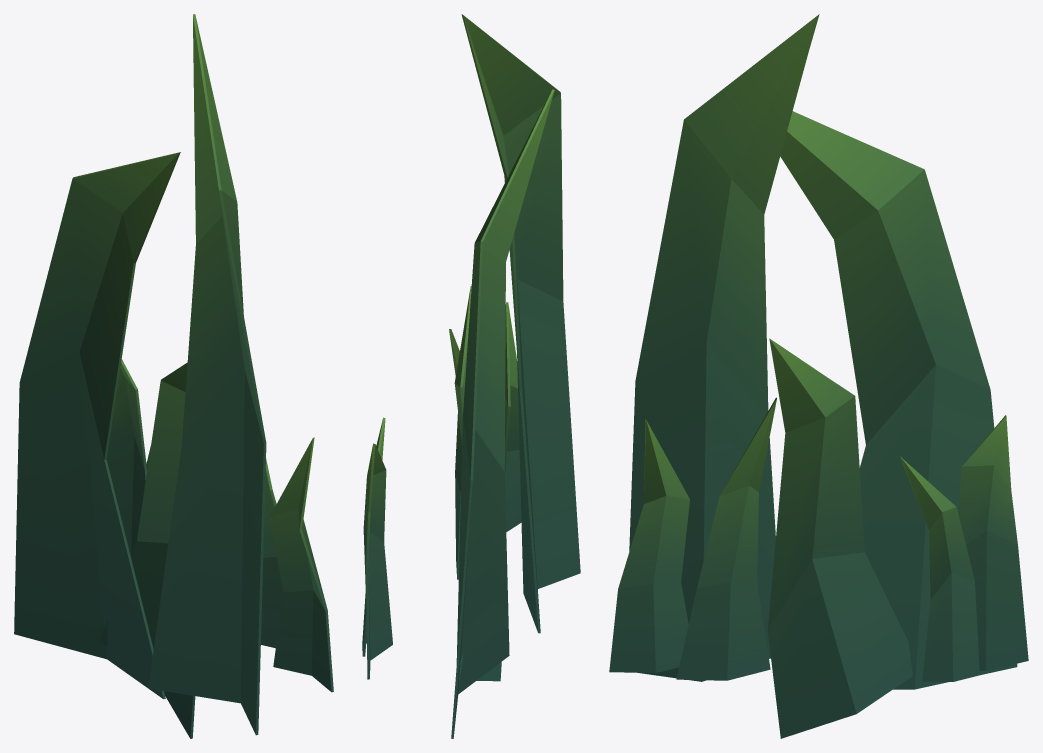
Rendered from Grass-2-3.fbx.
3 views of the same model, side by side, from view 1: azimuth 30°, elevation 25°; view 2: azimuth 150°, elevation 25°; view 3: azimuth 270°, elevation 25° (orthographic). The views are drawn at different scales.
Visible parts, largest first — view 1: Grass-2-3; view 2: Grass-2-3; view 3: Grass-2-3.
Boxes of the visible parts, x1,y1,x2,y2 form: Grass-2-3: (14,14,333,738); Grass-2-3: (362,14,580,738); Grass-2-3: (609,14,1028,738).
Size of the model in its own units: 24.75 by 116 by 60.17.
